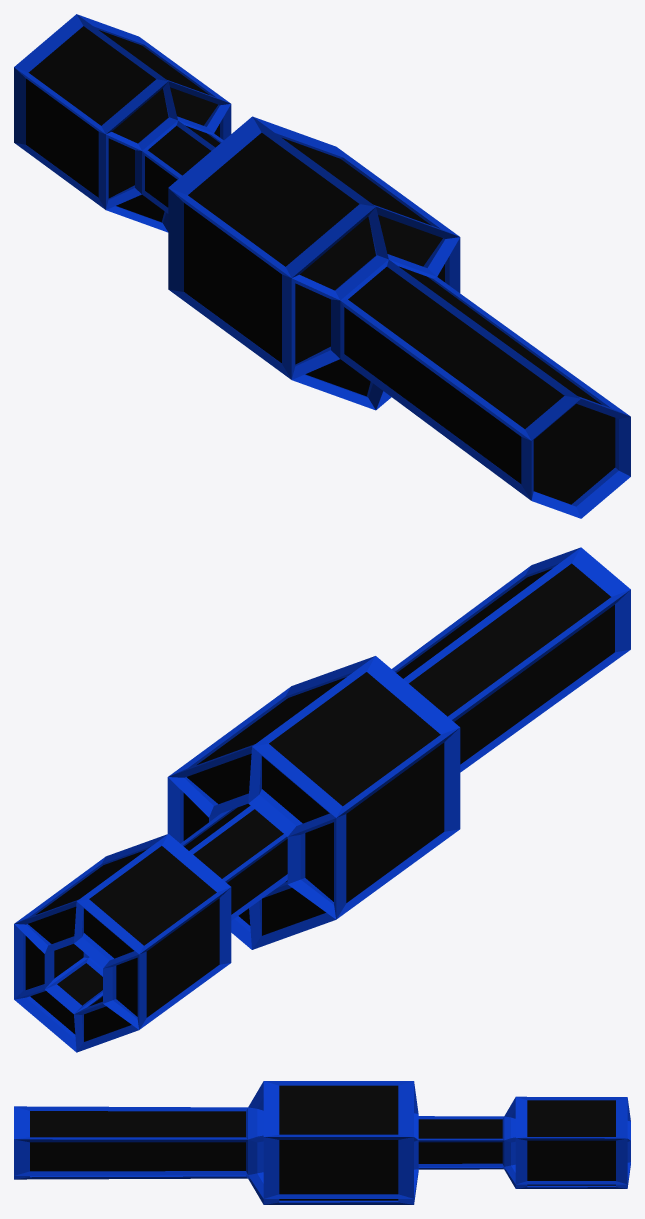
File: boss_01_body_canon.obj
The picture shows the model from 3 angles, top to bottom: view 1: azimuth 30°, elevation 25°; view 2: azimuth 150°, elevation 25°; view 3: azimuth 270°, elevation 25°; orthographic projection. The views are drawn at different scales.
Parts seen in each view (by area): view 1: Cylinder.007; view 2: Cylinder.007; view 3: Cylinder.007.
Boxes of the visible parts, bbox=[...] form: Cylinder.007: bbox=[14, 14, 630, 518]; Cylinder.007: bbox=[14, 547, 630, 1052]; Cylinder.007: bbox=[14, 1081, 630, 1204].
Size of the model in its own units: 2.36 by 2.73 by 12.31.
